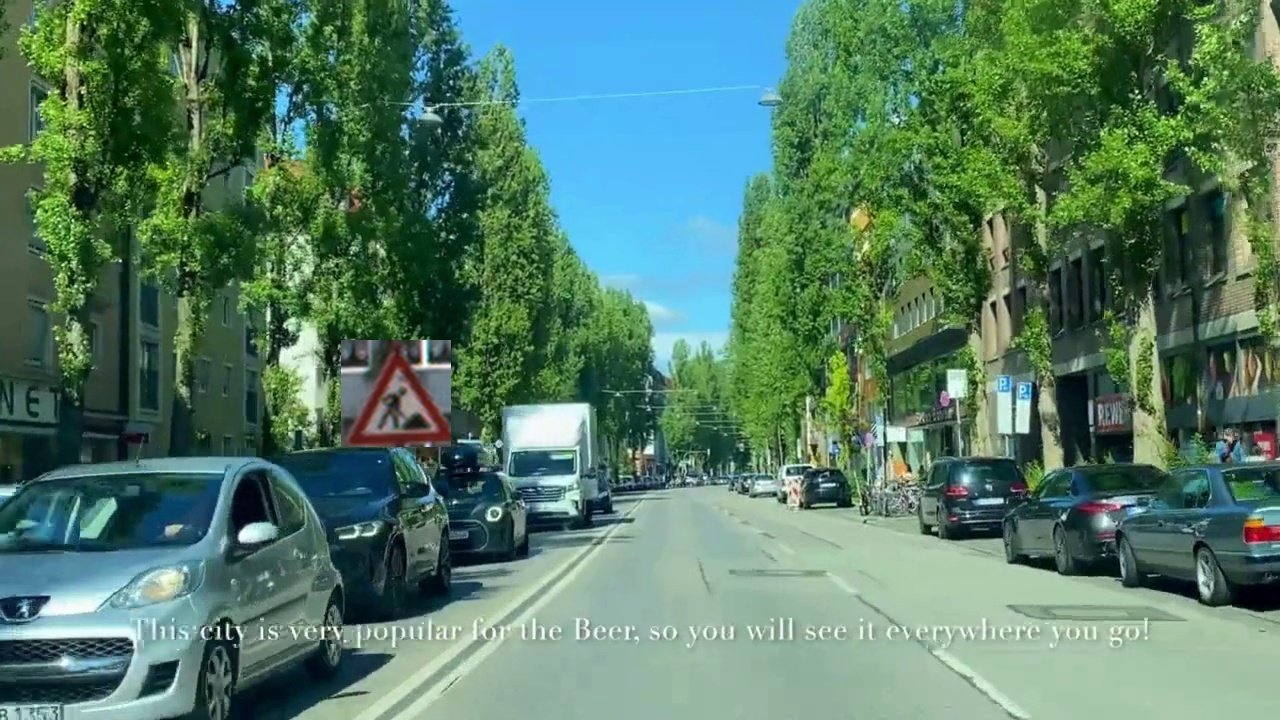Road work: (341, 340, 451, 447)
